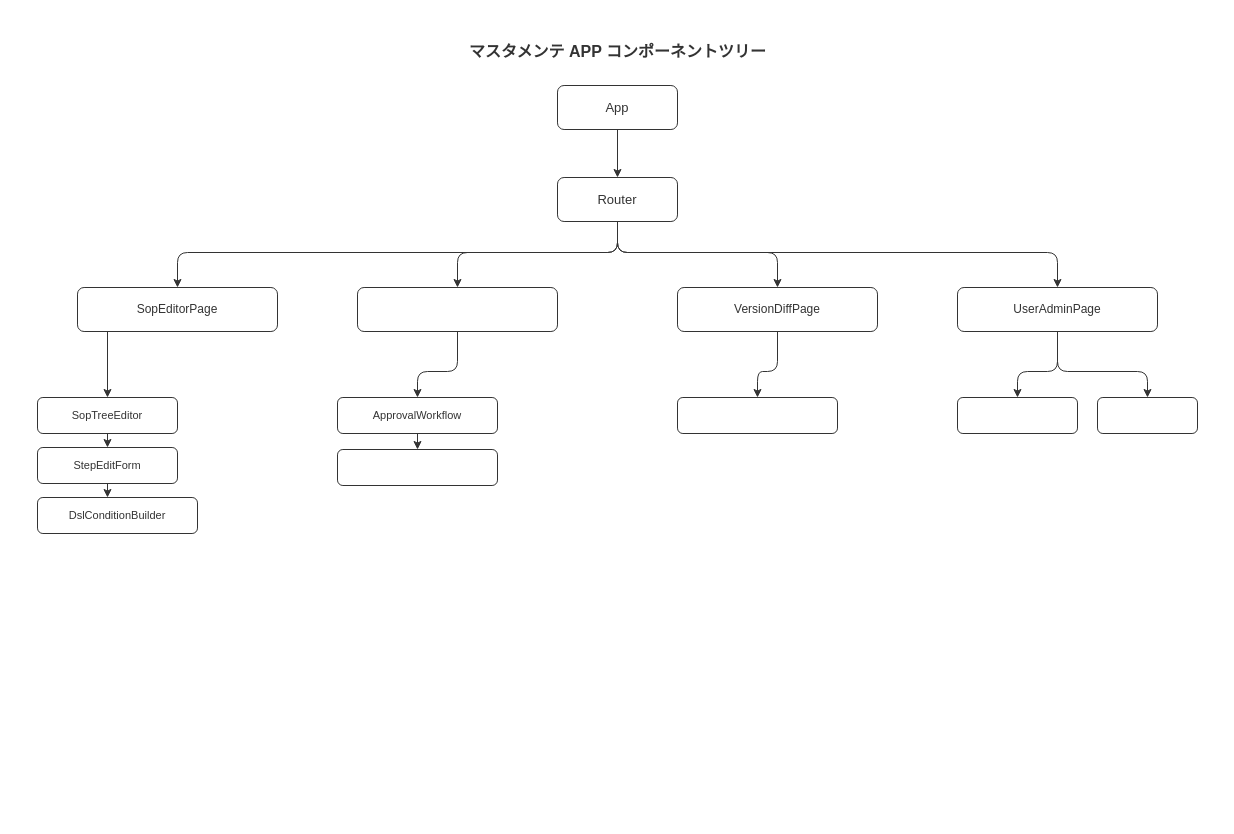
The diagram is 1234 pixels wide and 834 high, and some of its shapes have lost their labels. The centre of each missing label's shape, as x and y in pixels:
"ApprovalPage" goes at point (457, 309).
"ElectronicSignPad" goes at point (417, 467).
"RoleSelector" goes at point (1147, 415).
"UserTable" goes at point (1017, 415).
"VersionDiffViewer" goes at point (757, 415).
